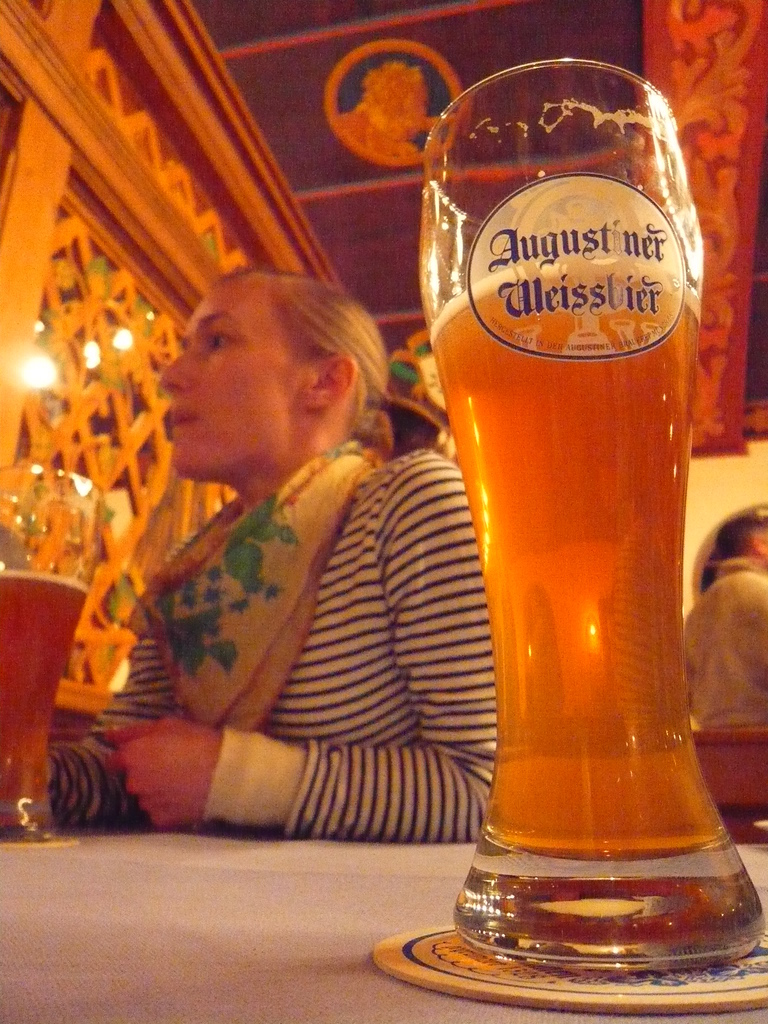Beer: (428, 259, 701, 868)
